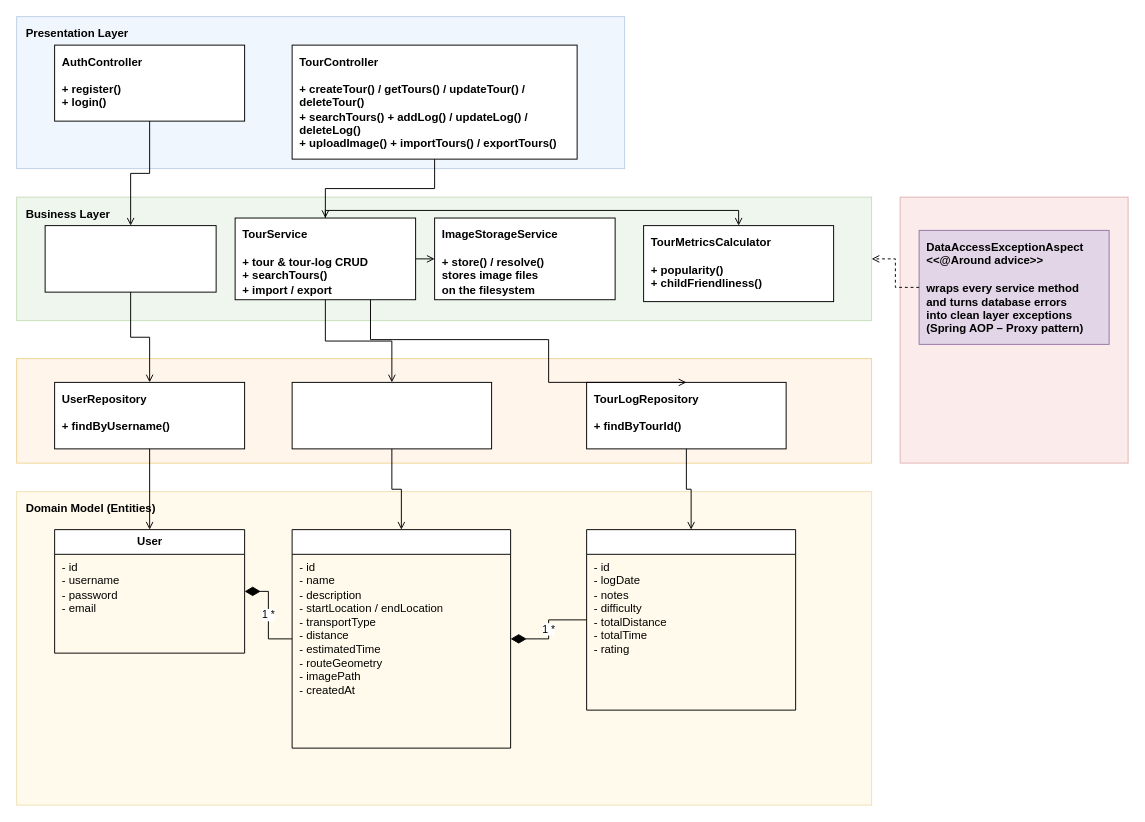
This 1145x822 diagram has some shape labels left out. Here are the shapes that lost their labels. From the top down, the box of each, then its label:
(44, 225, 216, 292): AuthService + register() / login()
(899, 196, 1128, 463): Cross-cutting
(291, 381, 492, 449): TourRepository + findByUserId()
(16, 358, 872, 463): Data Access Layer
(291, 529, 511, 748): Tour
(586, 529, 796, 710): TourLog
